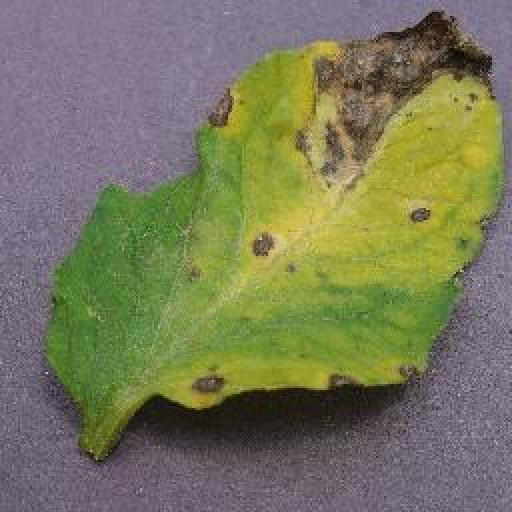Septoria: (43, 11, 507, 409)
